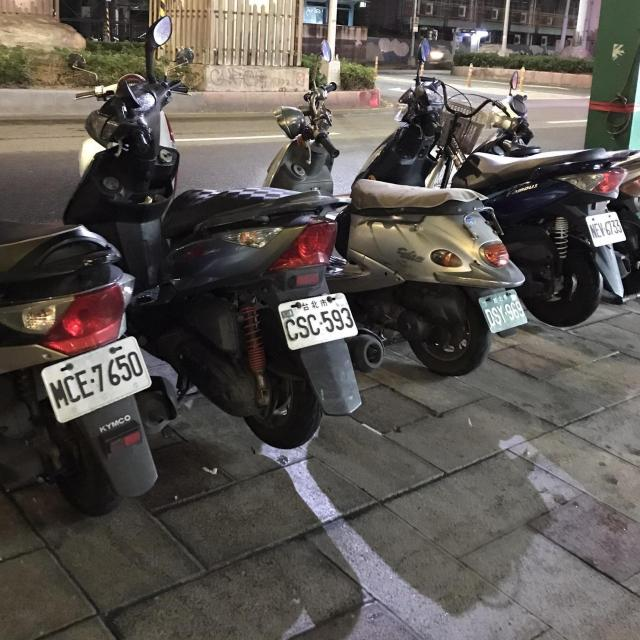GW: (476, 286, 530, 334)
W: (33, 332, 157, 425), (274, 286, 366, 354), (582, 206, 632, 253)
